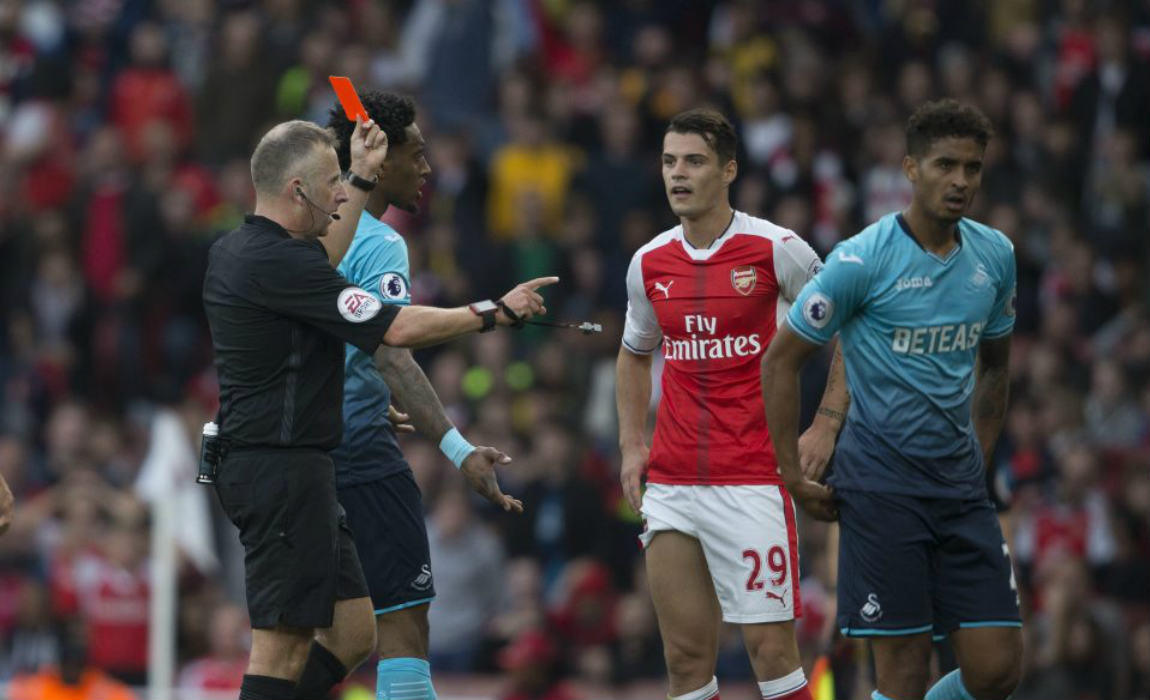red_card: (316, 57, 404, 176)
